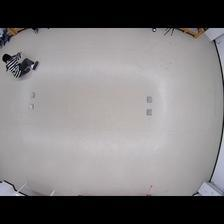fall: (3, 52, 39, 80)
